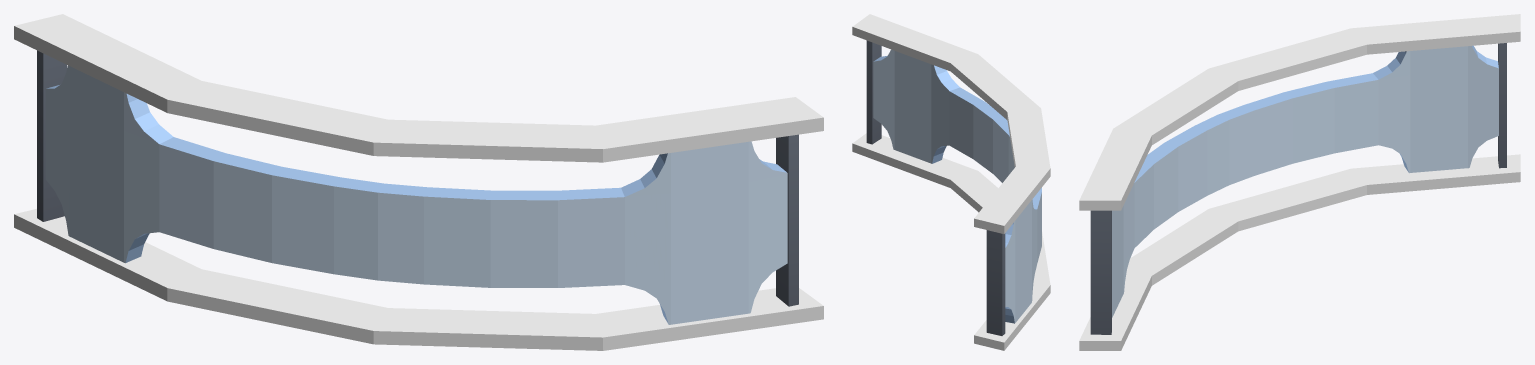
The model's file is Glass_Railing_Rounded_2.fbx.
3 views of the same model, side by side, from view 1: azimuth 30°, elevation 25°; view 2: azimuth 150°, elevation 25°; view 3: azimuth 270°, elevation 25° (orthographic). The views are drawn at different scales.
Visible parts, largest first — view 1: Cube.159; view 2: Cube.159; view 3: Cube.159.
Part boxes in pixels (<box>): Cube.159: <box>14,14,823,350</box>; Cube.159: <box>852,14,1050,350</box>; Cube.159: <box>1079,14,1520,350</box>.
Size of the model in its own units: 200 by 75 by 200.
